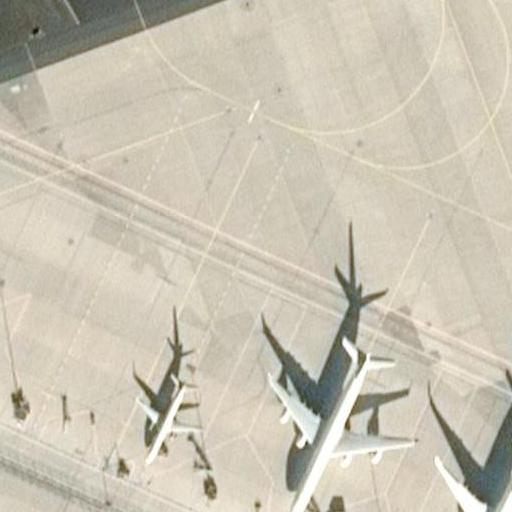Aircraft: (262, 328, 414, 512), (264, 335, 416, 512), (431, 424, 512, 512), (134, 367, 203, 466), (131, 367, 202, 462), (432, 432, 512, 512)
